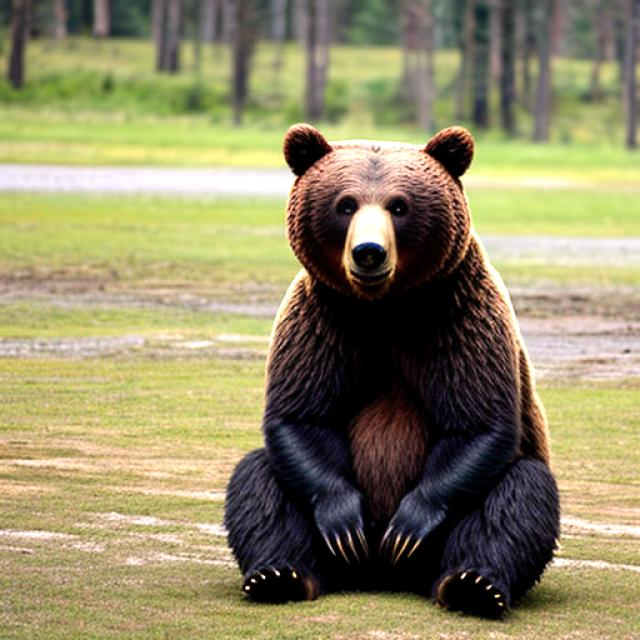bear: (226, 119, 583, 620)
